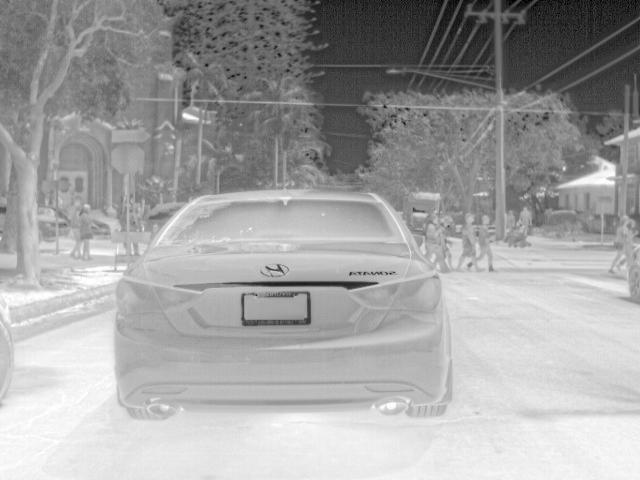car: (116, 187, 458, 421), (145, 200, 190, 241), (1, 295, 17, 406), (37, 213, 55, 245)
person: (603, 214, 637, 274), (466, 214, 495, 273), (420, 214, 448, 273), (457, 212, 481, 271), (77, 204, 97, 264), (67, 200, 84, 258), (516, 204, 535, 241), (503, 208, 518, 234)
